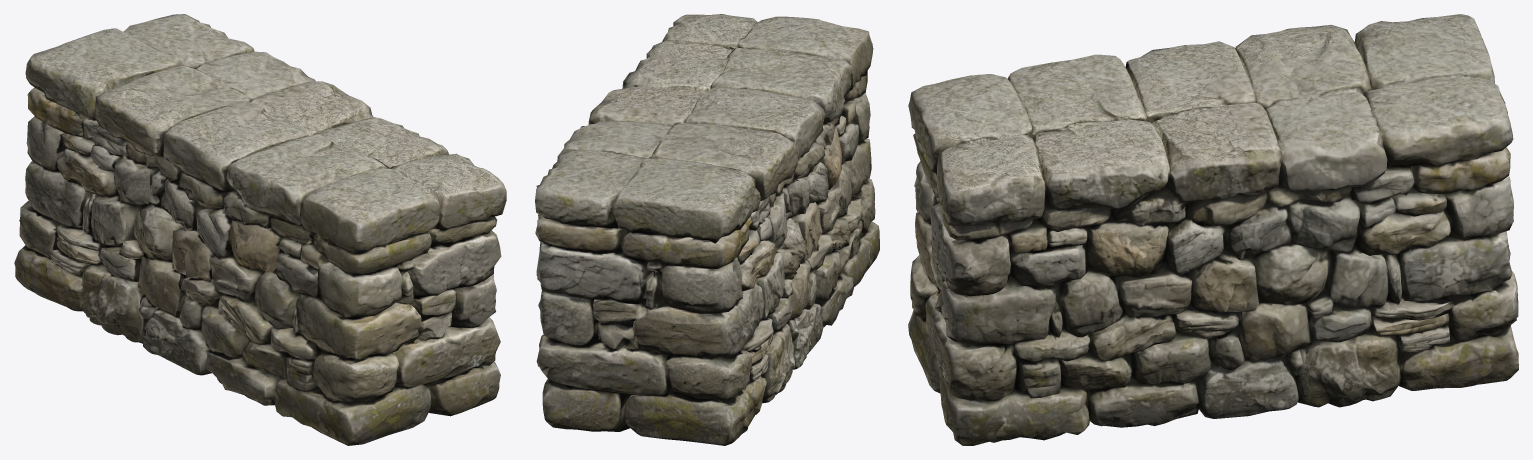
3 renders of one model, left to right at view 1: azimuth 30°, elevation 25°; view 2: azimuth 150°, elevation 25°; view 3: azimuth 270°, elevation 25°, orthographic. The views are drawn at different scales.
Visible parts, largest first — view 1: tripo_node_34525224-7e49-45f7-b67c-62b037a05f67; view 2: tripo_node_34525224-7e49-45f7-b67c-62b037a05f67; view 3: tripo_node_34525224-7e49-45f7-b67c-62b037a05f67.
Part boxes in pixels (x1,y1,x2,y2): tripo_node_34525224-7e49-45f7-b67c-62b037a05f67: (14, 14, 506, 445); tripo_node_34525224-7e49-45f7-b67c-62b037a05f67: (535, 14, 879, 445); tripo_node_34525224-7e49-45f7-b67c-62b037a05f67: (908, 14, 1518, 445).
Bounding box in the file's own units: 0.5946 × 0.5205 × 0.9788.
1 material, 1 textured.
